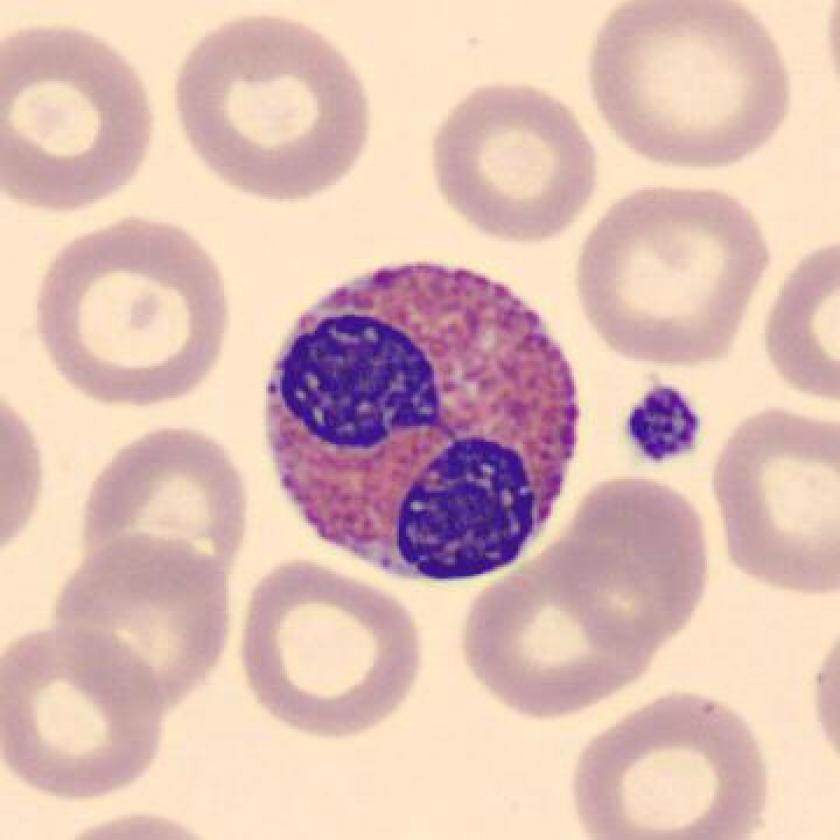eosinophil: (253, 253, 601, 591)
